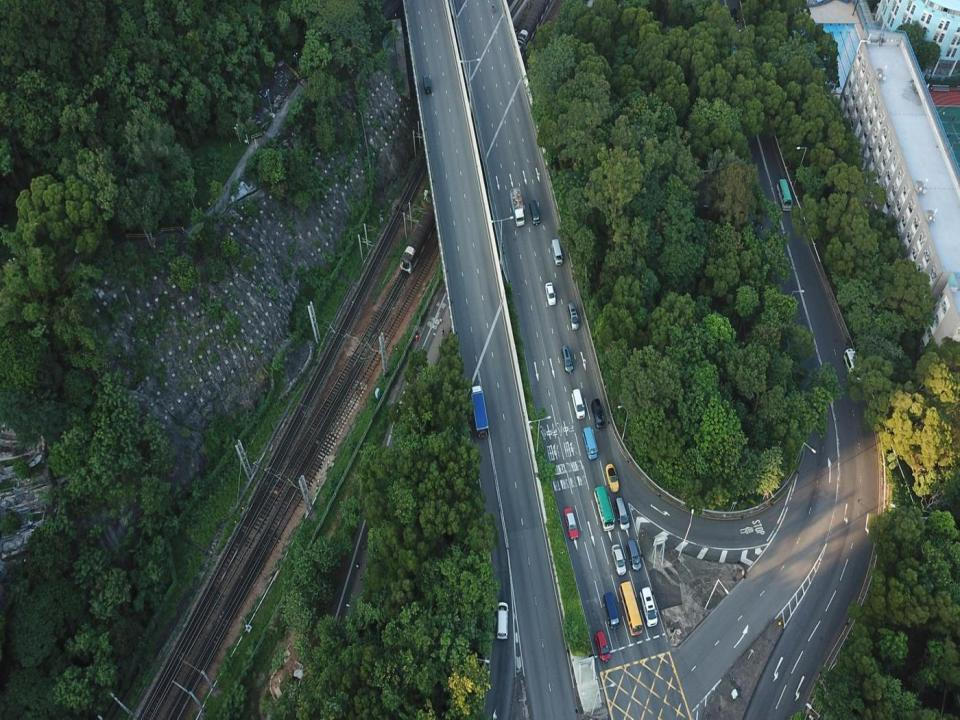bus: (619, 581, 643, 636), (594, 486, 614, 532), (844, 347, 863, 388), (775, 178, 792, 211)
car: (564, 507, 580, 540), (595, 630, 610, 664), (590, 398, 605, 432), (612, 544, 626, 576), (605, 463, 619, 494), (545, 282, 556, 306), (730, 8, 739, 23)
truck: (470, 386, 488, 438), (508, 187, 524, 225)
van: (639, 586, 658, 628), (603, 593, 620, 629), (582, 426, 597, 460), (614, 498, 630, 529), (496, 602, 509, 640), (627, 539, 641, 571), (572, 388, 585, 420), (560, 345, 574, 373), (568, 302, 580, 331), (551, 238, 563, 265), (530, 200, 540, 226), (422, 75, 432, 94)
